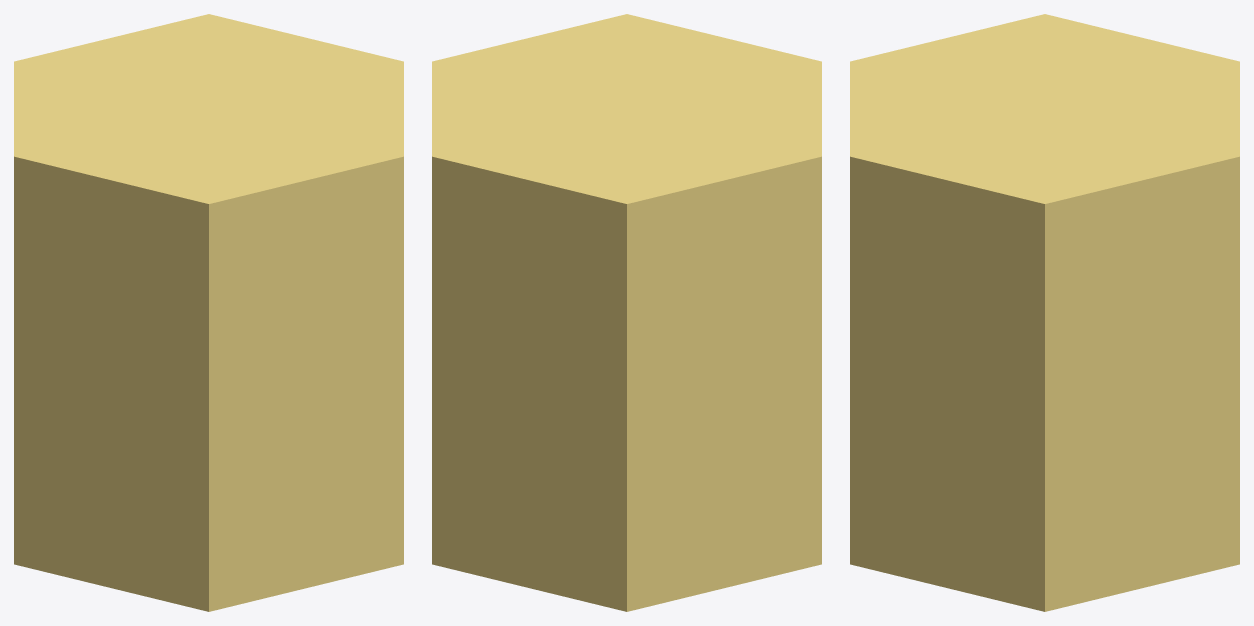
The model's file is beacon.glb.
3 views of the same model, side by side, from view 1: azimuth 30°, elevation 25°; view 2: azimuth 150°, elevation 25°; view 3: azimuth 270°, elevation 25° (orthographic).
Visible parts, largest first — view 1: beacon; view 2: beacon; view 3: beacon.
Boxes of the visible parts, left/top/right/bottom form: beacon: left=14, top=14, right=403, bottom=611; beacon: left=432, top=14, right=821, bottom=611; beacon: left=850, top=14, right=1239, bottom=611.
Size of the model in its own units: 1 by 1 by 0.866.
